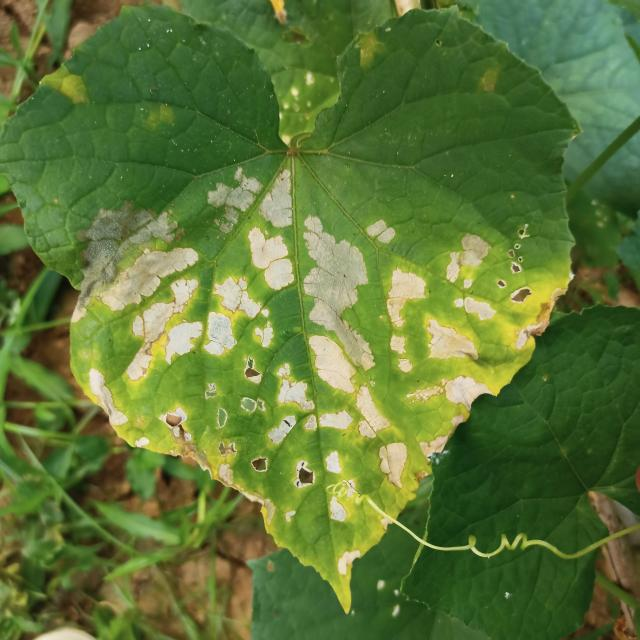disease_cucumber: (63, 159, 562, 572), (28, 57, 98, 114)
